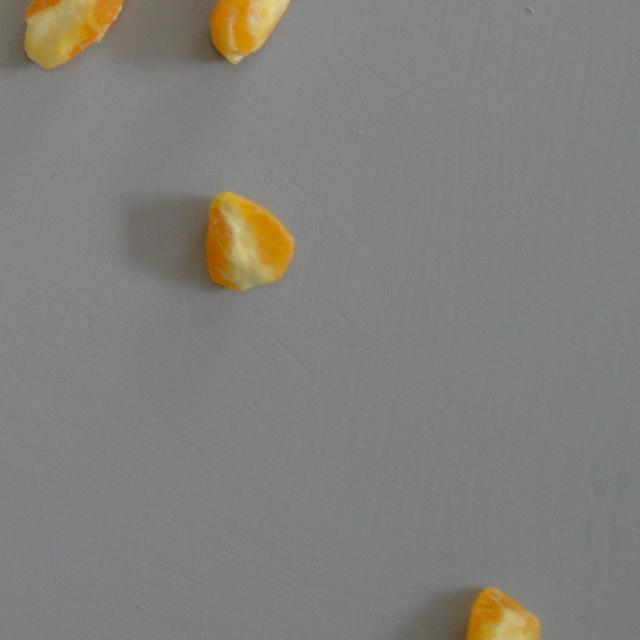dañado: (202, 186, 298, 295), (204, 0, 300, 66)
pelicula: (18, 0, 137, 74), (464, 584, 545, 640)
